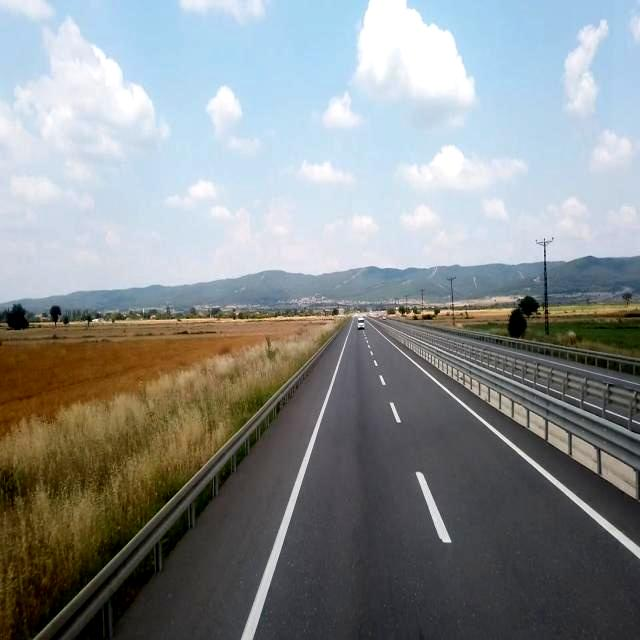lane: (378, 332, 640, 559), (241, 331, 349, 640), (416, 471, 450, 543), (391, 402, 401, 422)
road: (114, 326, 639, 639), (405, 350, 639, 546)
